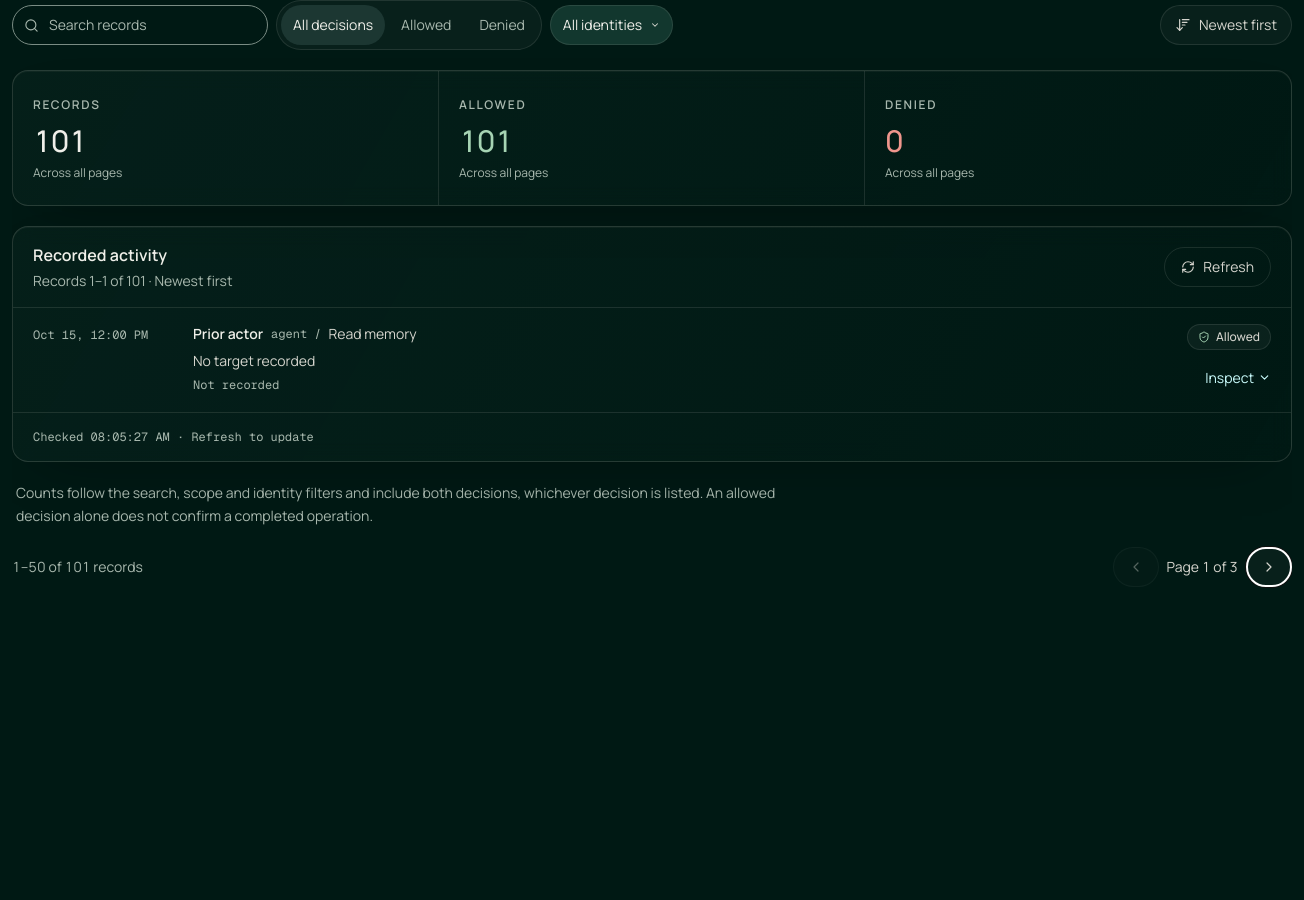
Test: keeps Next focused through a held page and empty result without stale records or counts
The image size is (1304, 900).
Click the button named "Next page" at (1269, 567), box x1=1246 y1=547 x2=1292 y2=587
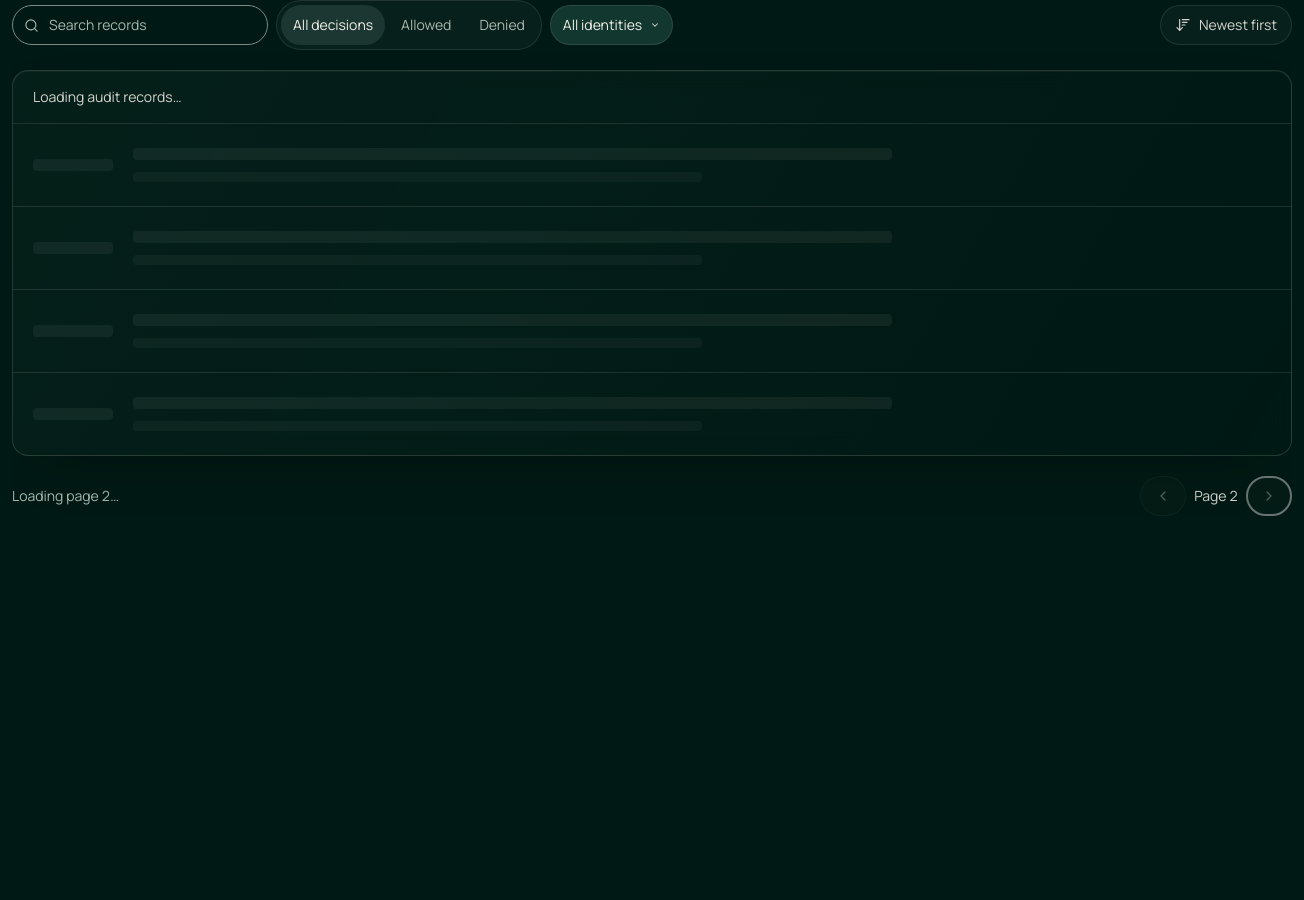
Check: the text "Prior actor" is gone
Check: the text "Records 1–1 of 101 · Newest first" is gone
Click the button named "Next page" at (1269, 496), box x1=1246 y1=476 x2=1292 y2=516
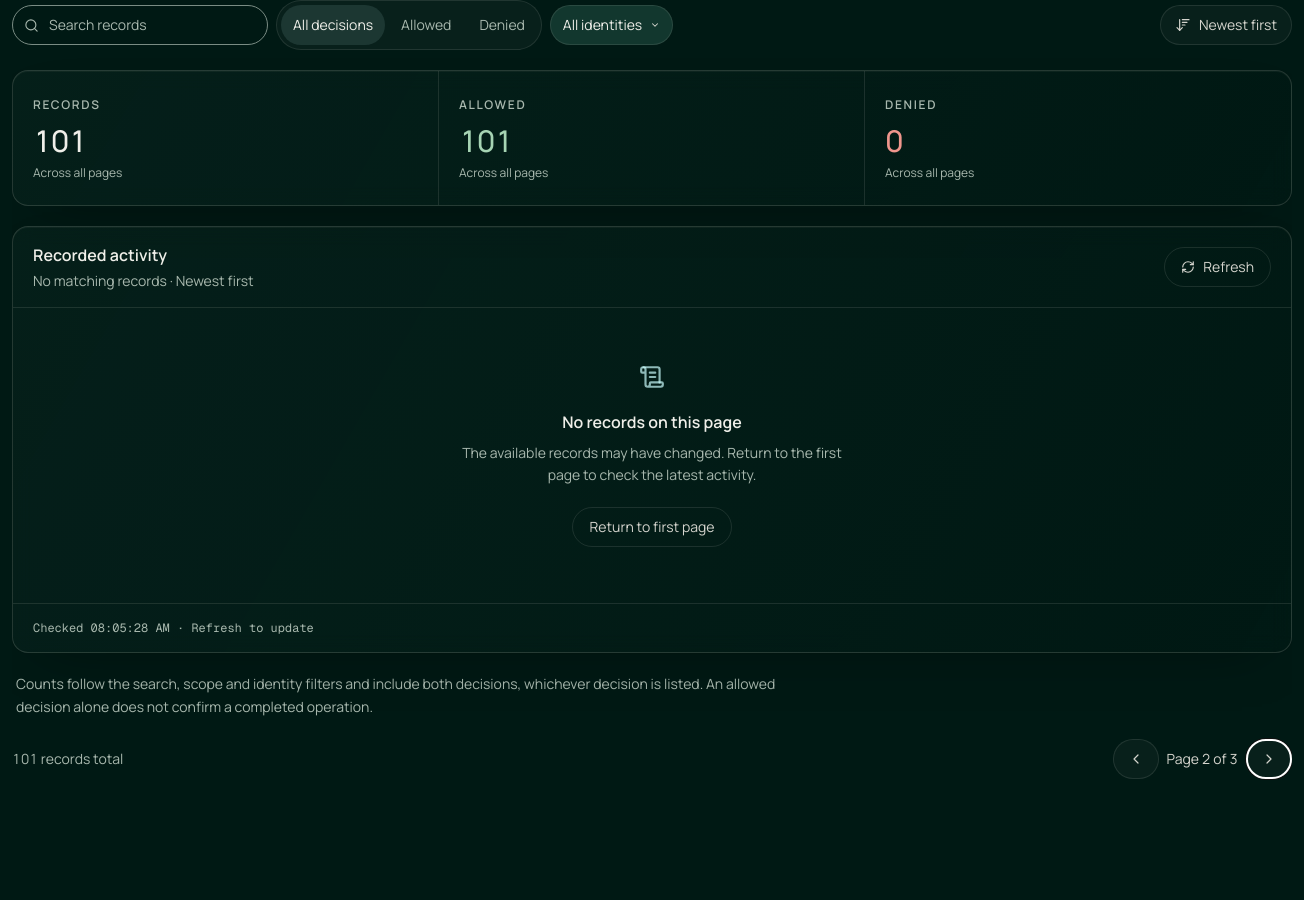
Check: the text "Records 1–1 of 101 · Newest first" is not shown
Check: the text "Page 2 of 3" is shown, box x1=1167 y1=748 x2=1238 y2=768
Check: the text "101 records total" is shown, box x1=12 y1=748 x2=123 y2=768
